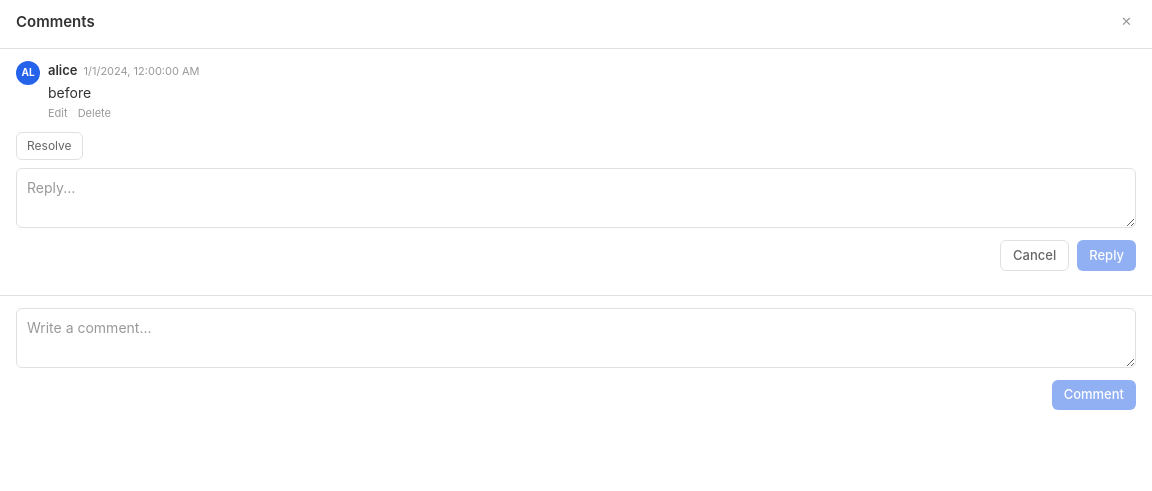
CommentThread › edits a comment's body inline
Click the button with class "comment-inline-btn" showing "Edit".
click(58, 113)  # box [48,105,68,122]
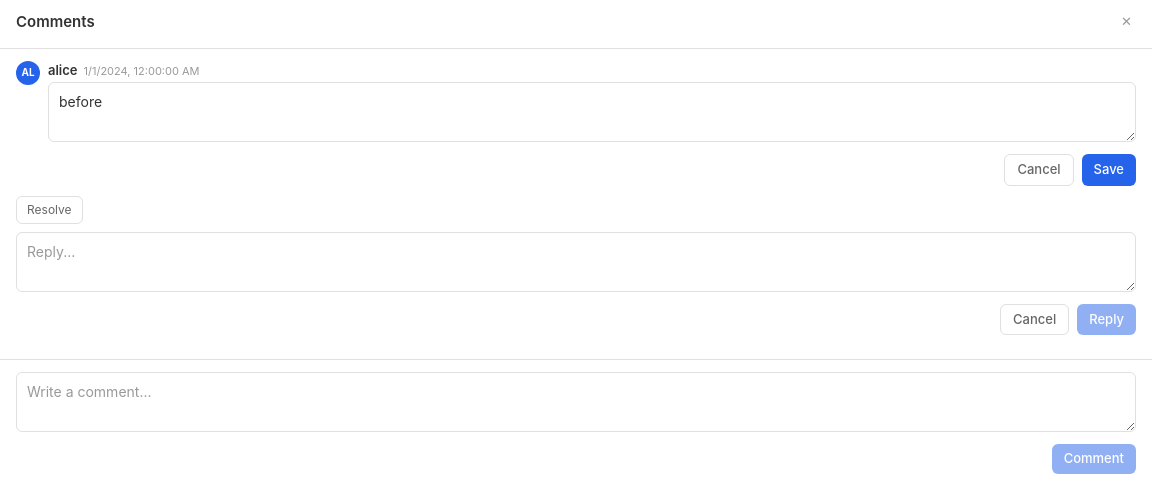
Replace the text in the 1st text box with "after" at [592, 112], box [48,82,1136,142]
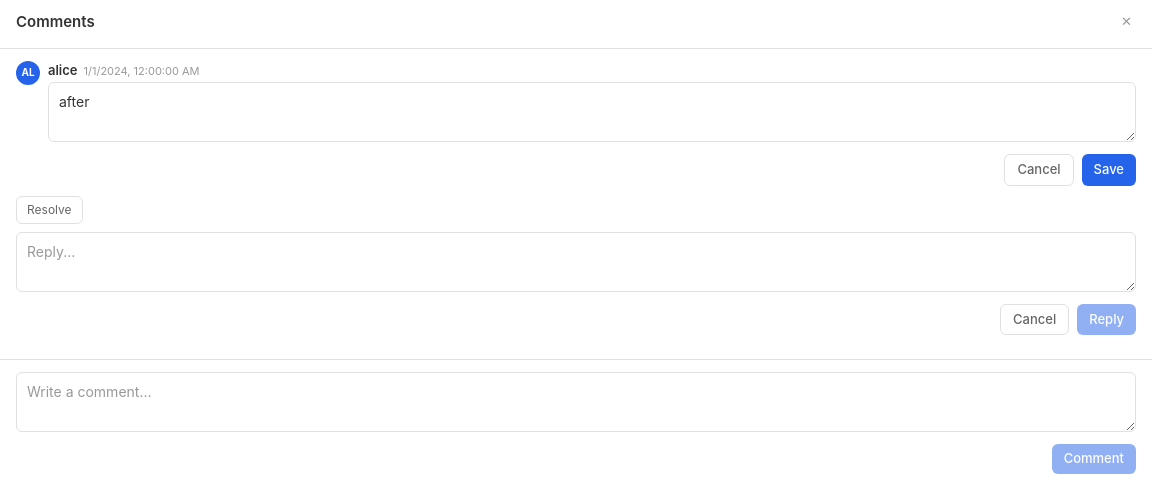
Click the button with class "composer-btn-primary" showing "Save".
click(1109, 170)  # box [1082,154,1136,186]
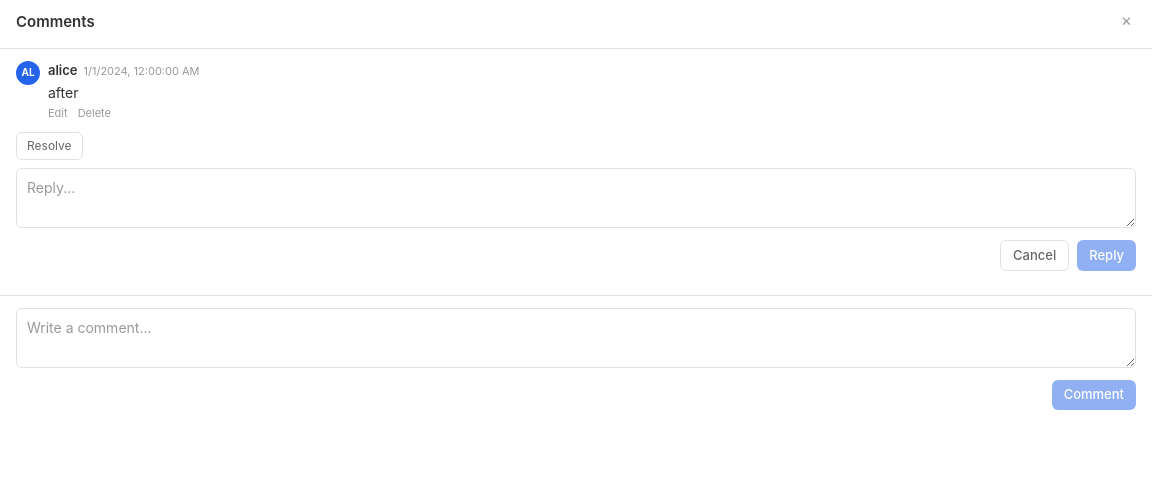
Check: the text "before" is not shown
Check: the text "after" is shown, box [48,84,78,101]
